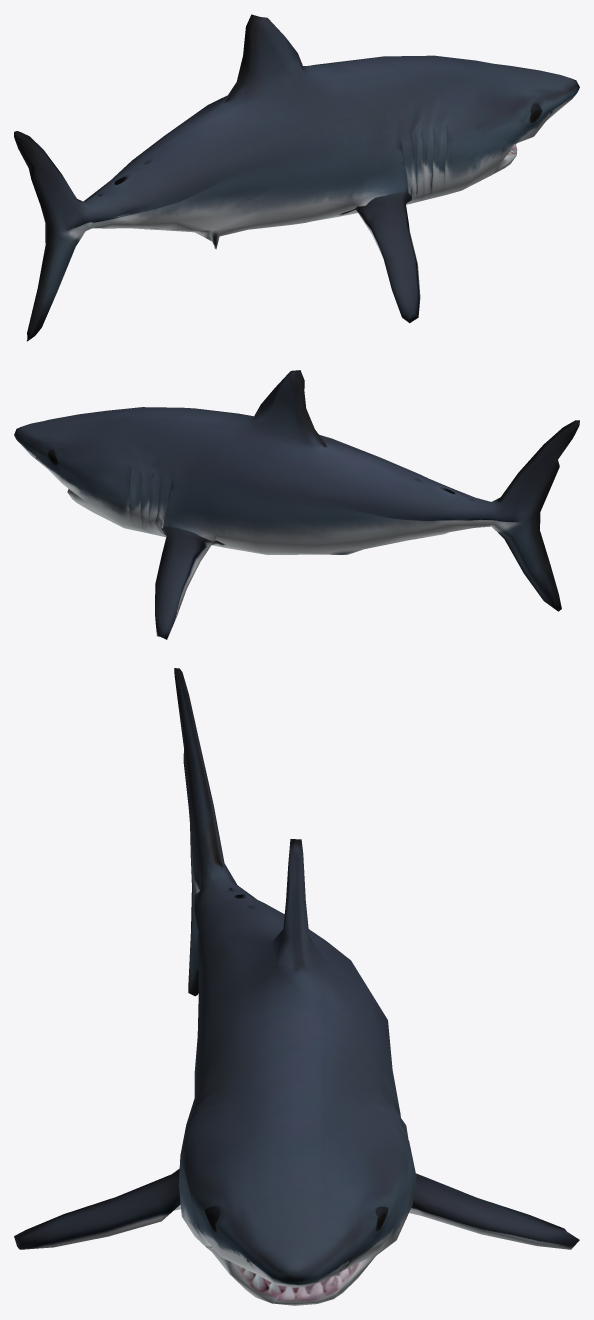
Rendered from mako.glb.
3 views of the same model, one above another, from view 1: azimuth 30°, elevation 25°; view 2: azimuth 150°, elevation 25°; view 3: azimuth 270°, elevation 25° (orthographic). The views are drawn at different scales.
Visible parts, largest first — view 1: tripo_node_2303dad7; view 2: tripo_node_2303dad7; view 3: tripo_node_2303dad7.
Boxes of the visible parts, bbox=[...] form: tripo_node_2303dad7: bbox=[14, 14, 579, 341]; tripo_node_2303dad7: bbox=[14, 370, 579, 639]; tripo_node_2303dad7: bbox=[14, 668, 579, 1305].
Bounding box in the file's own units: 97.48 × 38.91 × 54.58.
Materials: 1 (1 with a texture image).
